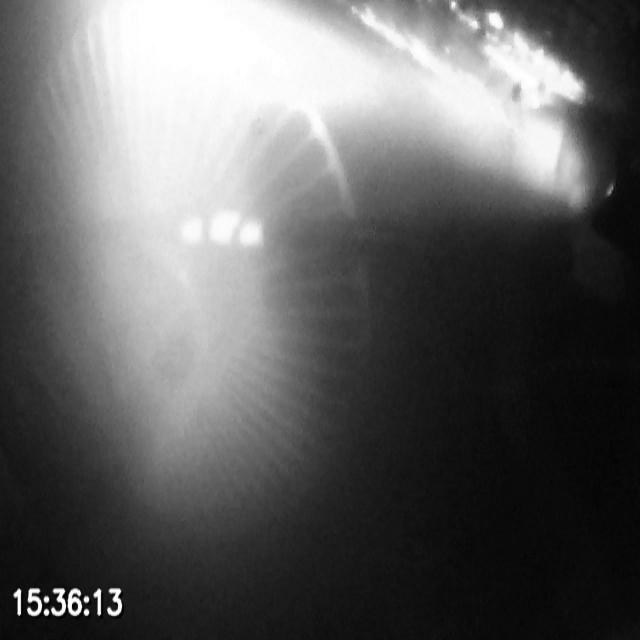white-dots: (179, 209, 266, 247)
